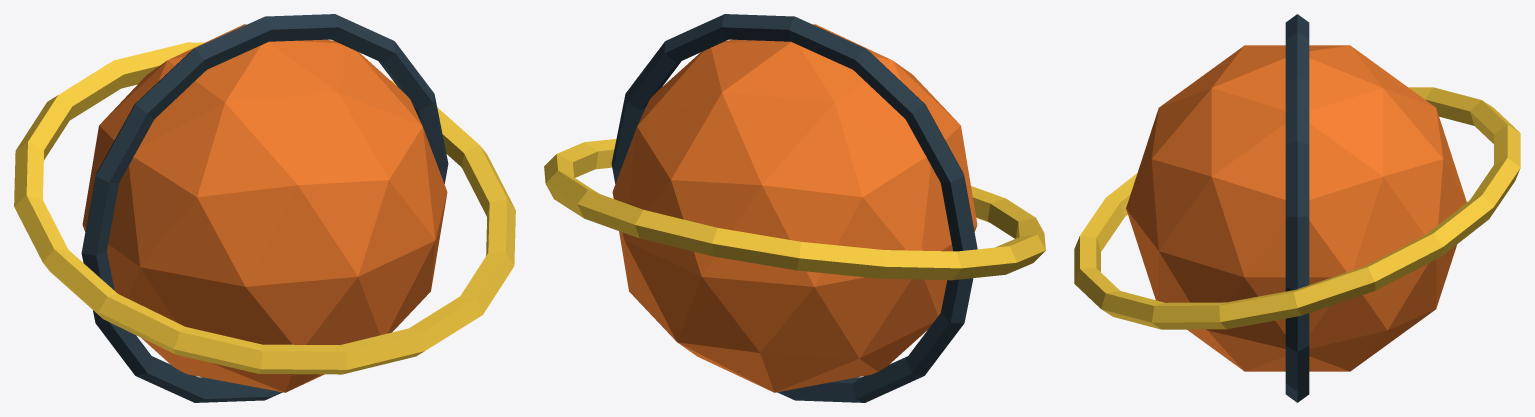
File: kanban_planet.glb
The picture shows the model from 3 angles, left to right: view 1: azimuth 30°, elevation 25°; view 2: azimuth 150°, elevation 25°; view 3: azimuth 270°, elevation 25°; orthographic projection. The views are drawn at different scales.
Parts seen in each view (by area): view 1: kanban_planet; view 2: kanban_planet; view 3: kanban_planet.
Boxes of the visible parts, x1,y1,x2,y2 form: kanban_planet: (14, 14, 515, 402); kanban_planet: (544, 14, 1045, 402); kanban_planet: (1074, 14, 1520, 402).
Size of the model in its own units: 2.64 by 2.18 by 2.5.
